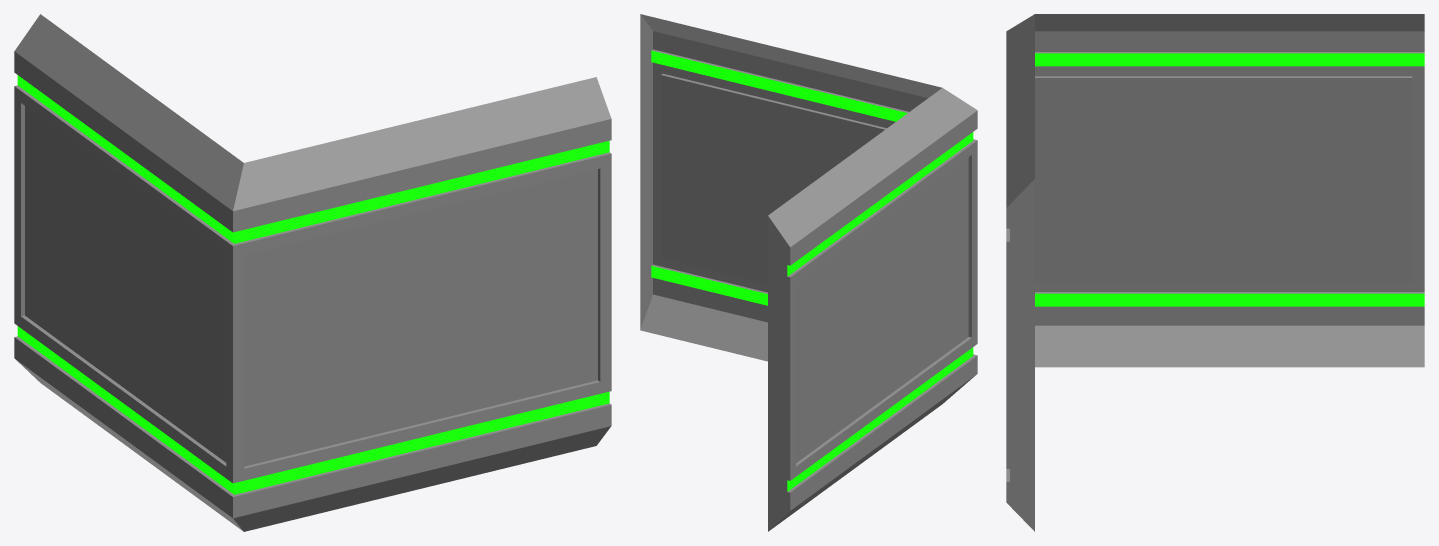
File: Wall_06_Corner.FBX
3 views of the same model, side by side, from view 1: azimuth 30°, elevation 25°; view 2: azimuth 150°, elevation 25°; view 3: azimuth 270°, elevation 25° (orthographic). The views are drawn at different scales.
Parts seen in each view (by area): view 1: Wall_06_Corner_LOD0; view 2: Wall_06_Corner_LOD0; view 3: Wall_06_Corner_LOD0.
Part boxes in pixels (x1,y1,x2,y2): Wall_06_Corner_LOD0: (14,14,611,531); Wall_06_Corner_LOD0: (640,14,977,531); Wall_06_Corner_LOD0: (1006,14,1424,531).
Size of what is drawn, in the model's own units: 193 by 180 by 193.
